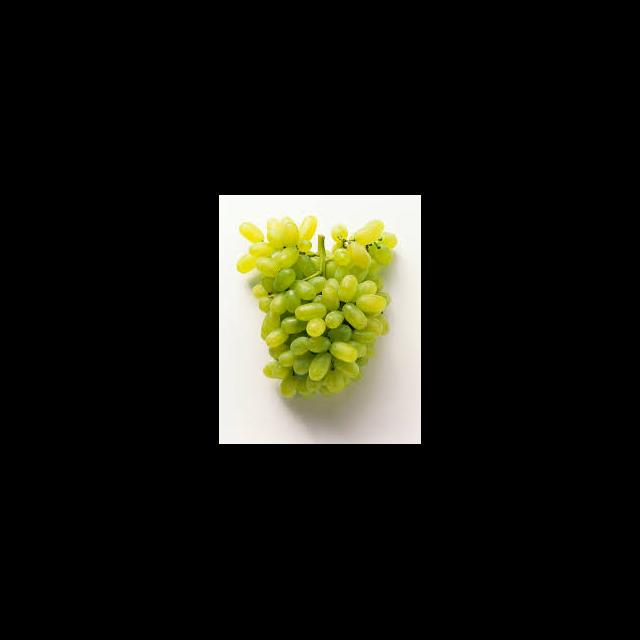grape: (235, 214, 397, 400)
